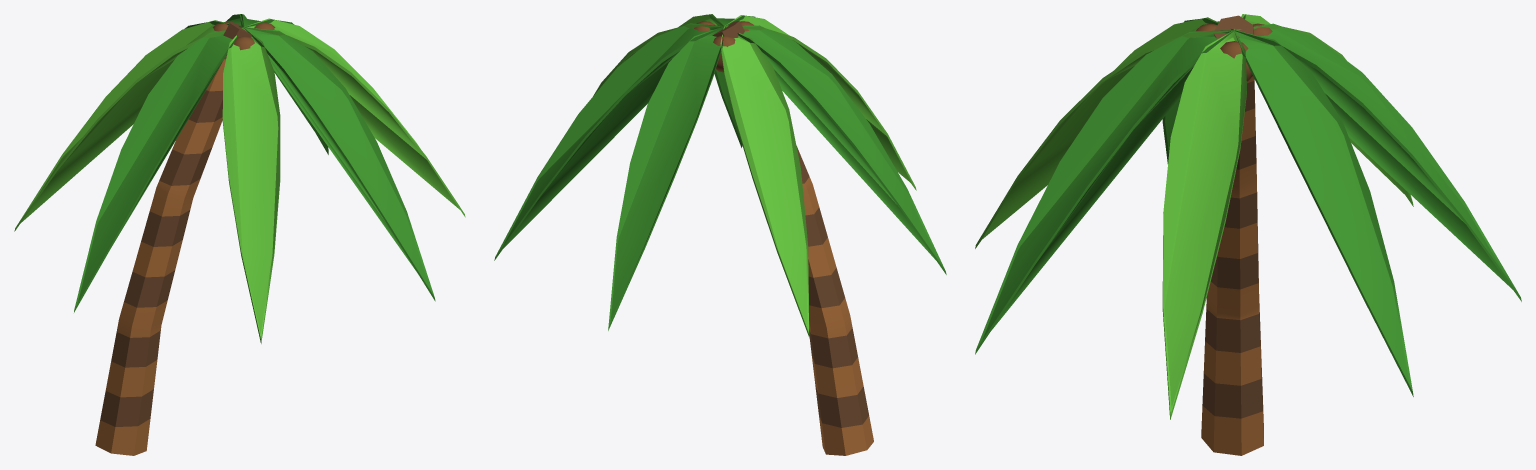
File: PalmTree.fbx
The picture shows the model from 3 angles, left to right: view 1: azimuth 30°, elevation 25°; view 2: azimuth 150°, elevation 25°; view 3: azimuth 270°, elevation 25°; orthographic projection. The views are drawn at different scales.
Visible parts, largest first — view 1: PalmTree; view 2: PalmTree; view 3: PalmTree.
Boxes of the visible parts, left/top/right/bottom form: PalmTree: left=14, top=14, right=465, bottom=455; PalmTree: left=494, top=14, right=946, bottom=455; PalmTree: left=975, top=14, right=1521, bottom=455.
Size of the model in its own units: 10.17 by 9.89 by 9.92.
1 material, 1 textured.
